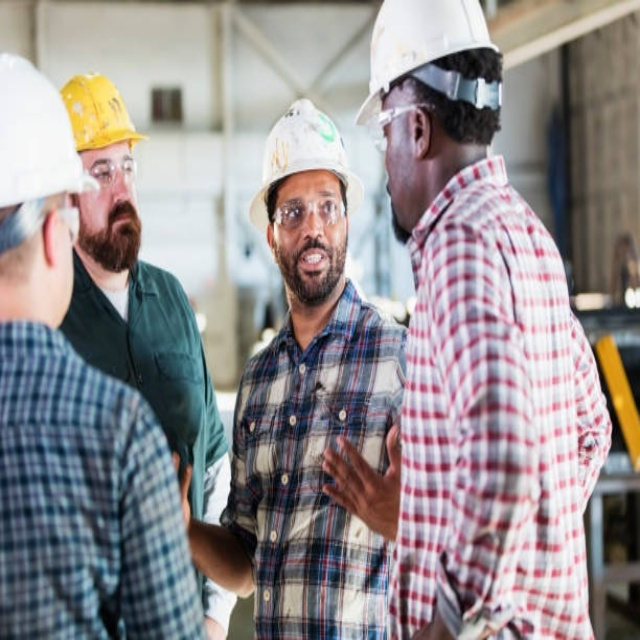Gafas: (365, 94, 422, 157), (90, 152, 139, 187), (52, 204, 81, 245)
Sin_guantes: (322, 417, 402, 540)
Sin_mascara: (383, 162, 419, 231), (295, 243, 332, 285), (105, 201, 139, 243)
